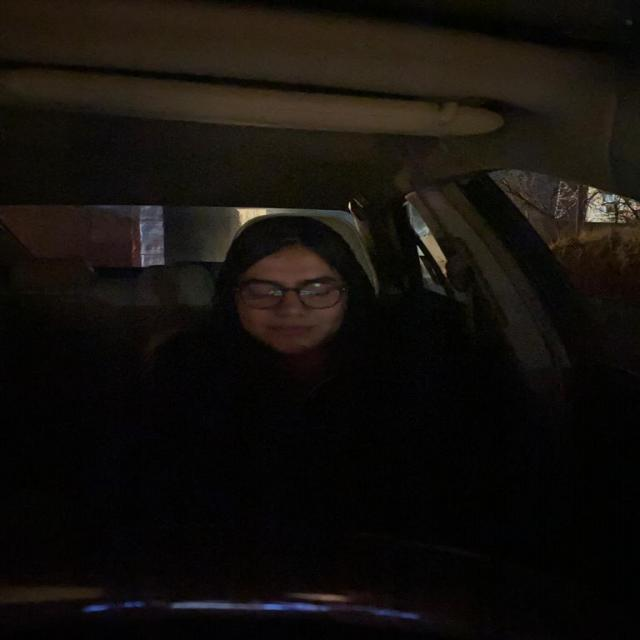drowsy: (217, 214, 369, 359)
